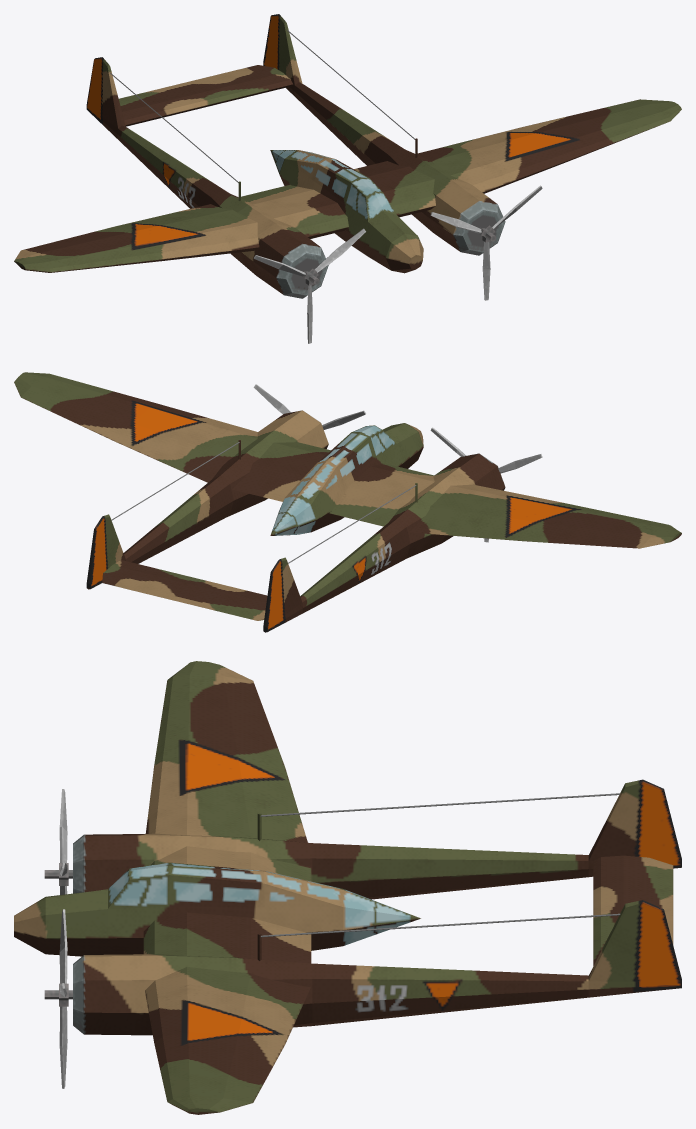
3 views of the same model, one above another, from view 1: azimuth 30°, elevation 25°; view 2: azimuth 150°, elevation 25°; view 3: azimuth 270°, elevation 25° (orthographic). The views are drawn at different scales.
Visible parts, largest first — view 1: Fokker G1. Pixeld, Fokker G1 Propler R, Fokker G1 Propler L; view 2: Fokker G1. Pixeld, Fokker G1 Propler L, Fokker G1 Propler R; view 3: Fokker G1. Pixeld, Fokker G1 Propler L, Fokker G1 Propler R.
Part boxes in pixels (x1=…): Fokker G1. Pixeld: x1=14, y1=14, x2=681, y2=298; Fokker G1 Propler R: x1=254, y1=228, x2=365, y2=343; Fokker G1 Propler L: x1=430, y1=185, x2=542, y2=300; Fokker G1. Pixeld: x1=14, y1=372, x2=681, y2=632; Fokker G1 Propler L: x1=253, y1=384, x2=365, y2=429; Fokker G1 Propler R: x1=430, y1=427, x2=542, y2=542; Fokker G1. Pixeld: x1=14, y1=661, x2=681, y2=1114; Fokker G1 Propler L: x1=44, y1=909, x2=72, y2=1088; Fokker G1 Propler R: x1=44, y1=789, x2=72, y2=894.
Size of the model in its own units: 17.19 by 3.36 by 10.84.
